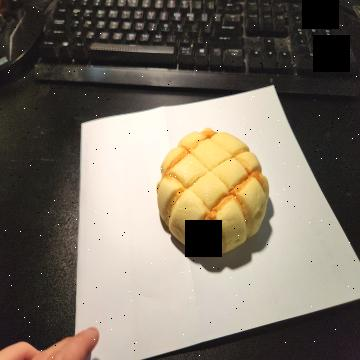melon_bread: (156, 127, 272, 256)
